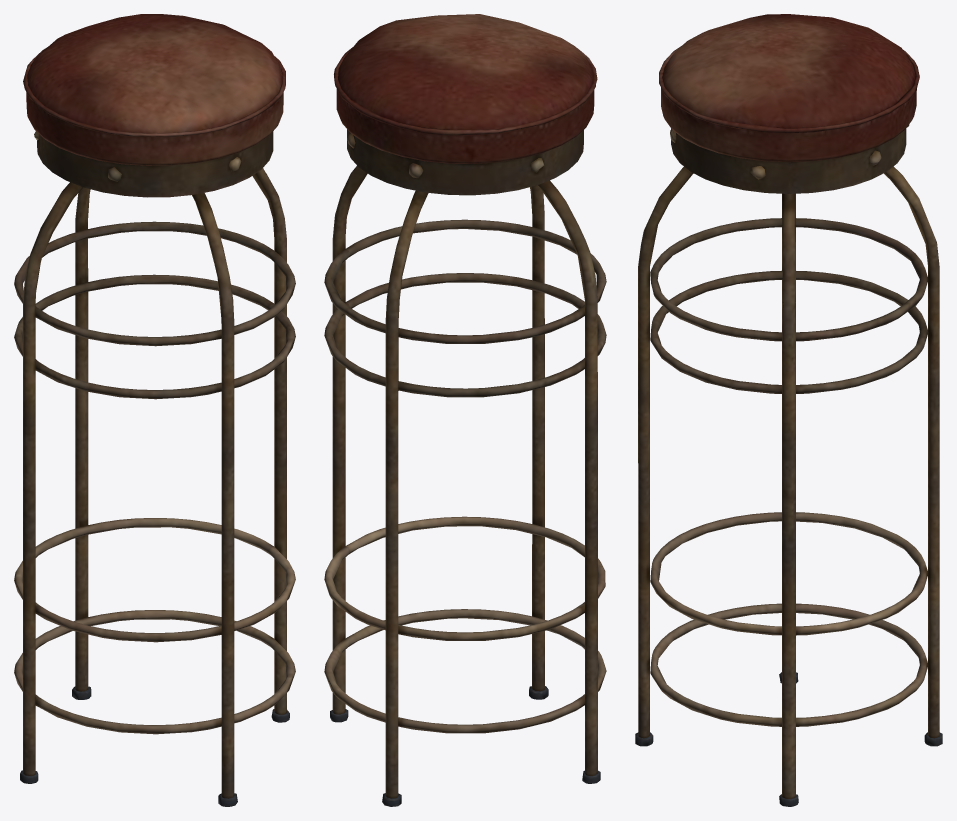
Rendered from metal_stool_01.glb.
3 views of the same model, side by side, from view 1: azimuth 30°, elevation 25°; view 2: azimuth 150°, elevation 25°; view 3: azimuth 270°, elevation 25° (orthographic).
Visible parts, largest first — view 1: metal_stool_01; view 2: metal_stool_01; view 3: metal_stool_01.
Part boxes in pixels (x1=…): metal_stool_01: x1=14, y1=14, x2=295, y2=806; metal_stool_01: x1=324, y1=14, x2=606, y2=806; metal_stool_01: x1=635, y1=14, x2=942, y2=806.
Bounding box in the file's own units: 0.3505 × 0.8826 × 0.353.
1 material, 1 textured.
